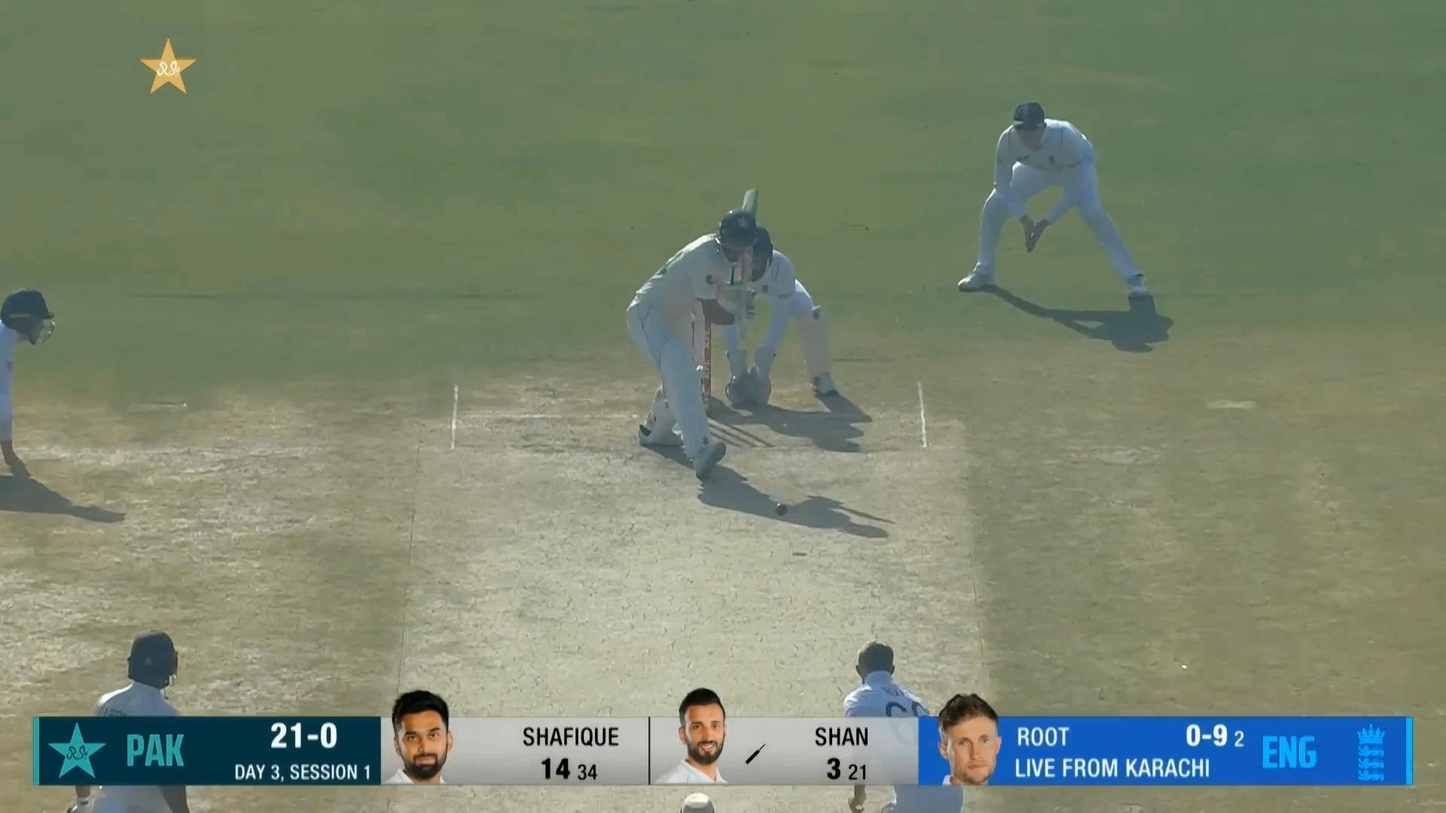BM 1: (624, 185, 761, 479)
BO: (840, 638, 967, 813)
